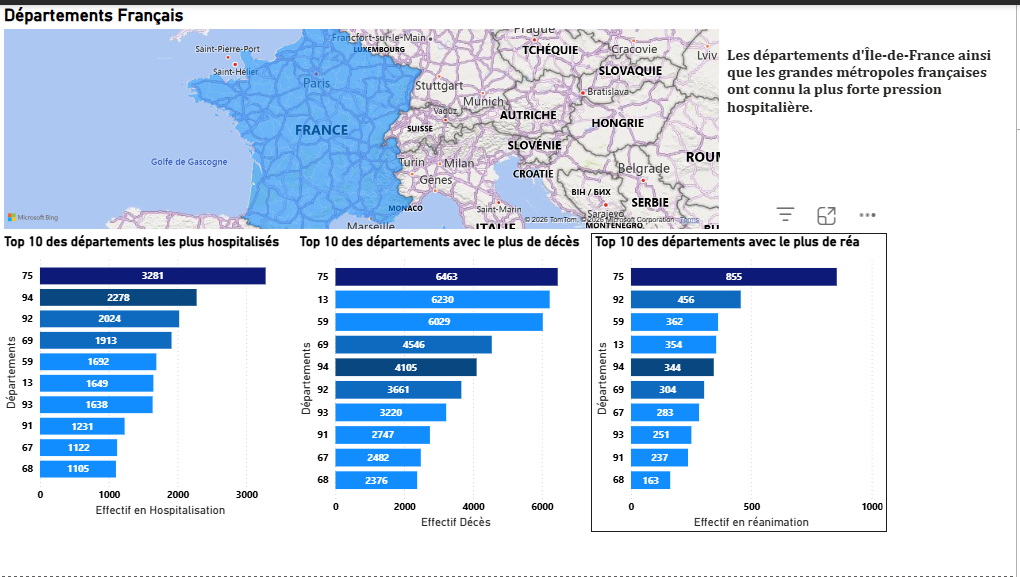

This screenshot's page, from the dashboard's own definition file:
{"tool":"powerbi","page":{"name":"Répartition géographique des hospitalisations","canvas":[1280,720],"ordinal":1},"visuals":[{"type":"filledMap","title":"Départements Français","fields":{"Category":["table_total_dep.dep"]},"box":[0,0,910.9,287.2],"z":0},{"type":"clusteredBarChart","title":"Top 10 des départements les plus hospitalisés","fields":{"Category":["table_total_dep.dep"],"Y":["Sum(table_total_dep.hosp)"]},"box":[0,287.2,372.3,360.9],"z":1000},{"type":"clusteredBarChart","title":"Top 10 des départements avec le plus de décès","fields":{"Category":["table_total_dep.dep"],"Y":["Sum(table_total_dep.dc)"]},"box":[372.3,287.2,372.3,376.1],"z":2000},{"type":"textbox","box":[910.9,45.4,368.5,113.4],"z":3000},{"type":"clusteredBarChart","title":"Top 10 des départements avec le plus de réa","fields":{"Category":["table_total_dep.dep"],"Y":["Sum(table_total_dep.rea)"]},"box":[744.6,287.2,372.3,376.1],"z":3001}]}

Visuals, with their boxes in screenshot pixels (x1, y1, x2, y2), scaled from the page's 1280x720 canvas onto the 1020x577 screenshot:
"Départements Français" filledMap: [left=0, top=0, right=726, bottom=230]
"Top 10 des départements les plus hospitalisés" clusteredBarChart: [left=0, top=230, right=297, bottom=519]
"Top 10 des départements avec le plus de décès" clusteredBarChart: [left=297, top=230, right=593, bottom=532]
textbox: [left=726, top=36, right=1019, bottom=127]
"Top 10 des départements avec le plus de réa" clusteredBarChart: [left=593, top=230, right=890, bottom=532]
